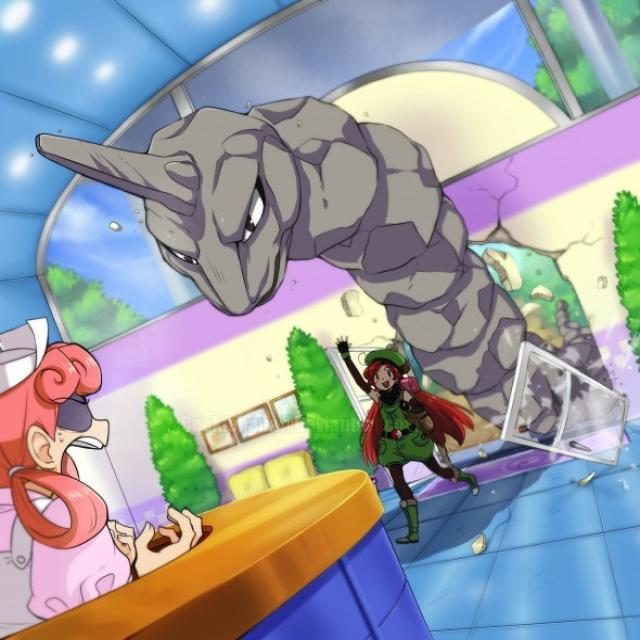Onix: (121, 78, 499, 330)
